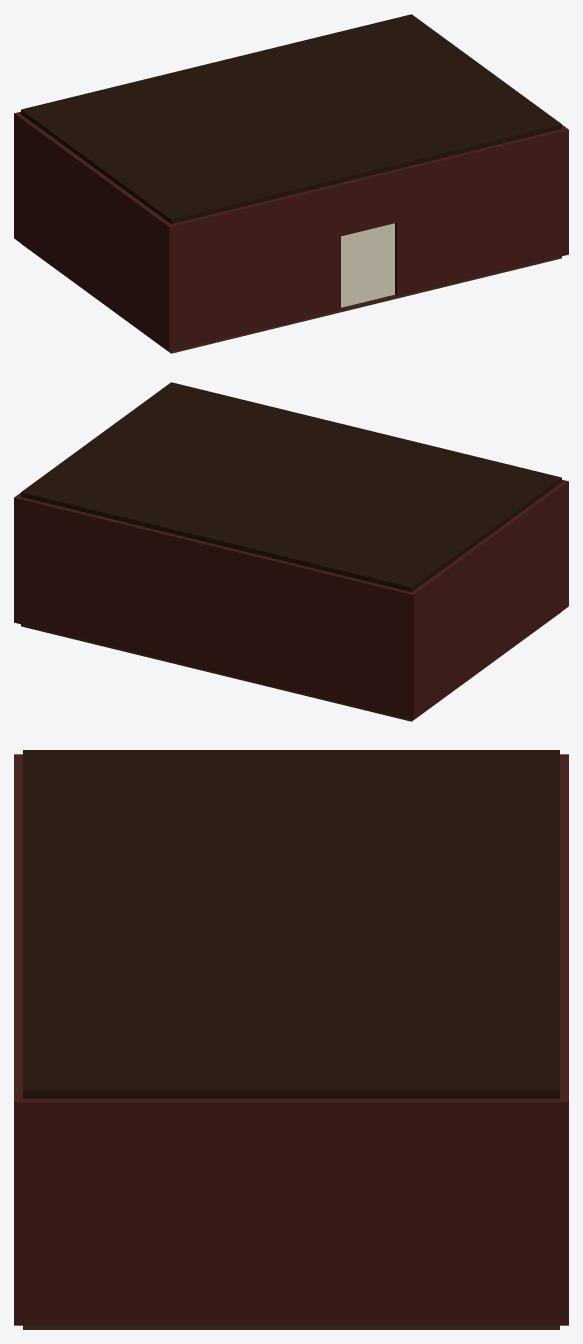
File: library.glb
3 renders of one model, top to bottom at view 1: azimuth 30°, elevation 25°; view 2: azimuth 150°, elevation 25°; view 3: azimuth 270°, elevation 25°, orthographic. The views are drawn at different scales.
Visible parts, largest first — view 1: Library_Room, Door_Exit.001; view 2: Library_Room; view 3: Library_Room.
Part boxes in pixels (x1=…): Library_Room: x1=14, y1=14, x2=568, y2=353; Door_Exit.001: x1=341, y1=223, x2=394, y2=307; Library_Room: x1=14, y1=382, x2=568, y2=721; Library_Room: x1=14, y1=750, x2=568, y2=1329.
Size of what is drawn, in the model's own units: 18.4 by 5.9 by 12.4.
